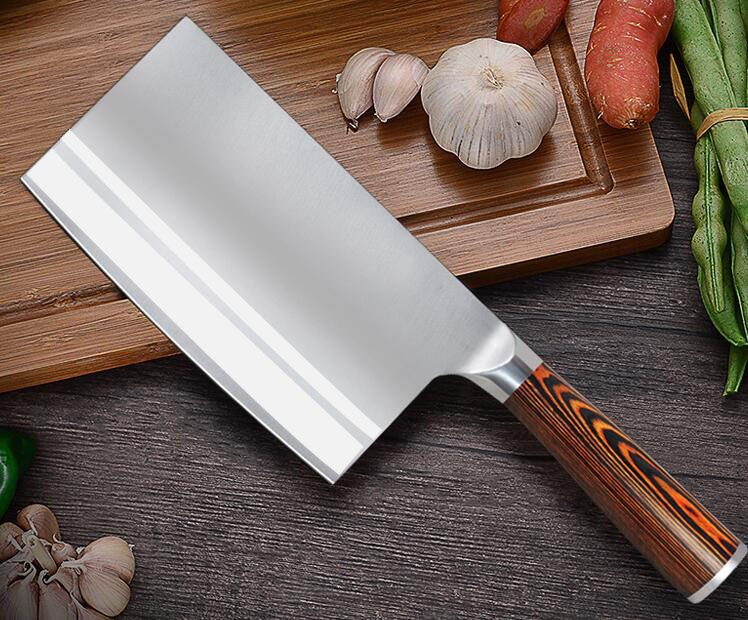knief: (27, 53, 707, 565)
